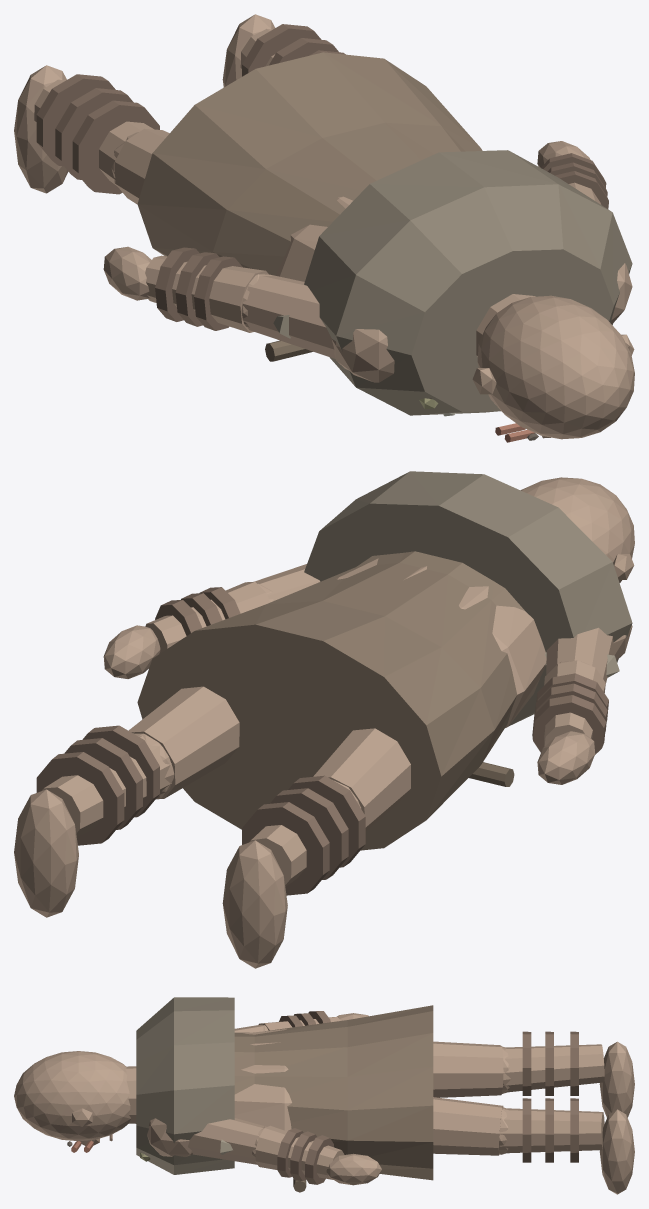
File: woman_slender__warrior.glb
3 views of the same model, one above another, from view 1: azimuth 30°, elevation 25°; view 2: azimuth 150°, elevation 25°; view 3: azimuth 270°, elevation 25° (orthographic). The views are drawn at different scales.
Visible parts, largest first — view 1: part_043, part_039, part_010, part_018, part_003, part_027, part_020, part_025, part_017, part_000, part_026, part_021 (+14 smaller); view 2: part_039, part_043, part_004, part_003, part_007, part_000, part_010, part_008, part_025, part_036, part_006, part_021 (+16 smaller); view 3: part_039, part_043, part_010, part_000, part_004, part_006, part_002, part_008, part_029, part_007, part_003, part_031 (+14 smaller).
Part boxes in pixels (left/top/right/bottom): part_043: left=304, top=150, right=632, bottom=415; part_039: left=137, top=52, right=482, bottom=275; part_010: left=477, top=295, right=634, bottom=439; part_018: left=242, top=274, right=335, bottom=358; part_003: left=14, top=65, right=68, bottom=193; part_027: left=72, top=100, right=159, bottom=194; part_020: left=145, top=255, right=268, bottom=332; part_025: left=36, top=74, right=115, bottom=166; part_017: left=331, top=329, right=394, bottom=382; part_000: left=114, top=128, right=169, bottom=204; part_026: left=55, top=88, right=133, bottom=179; part_021: left=103, top=246, right=151, bottom=300; part_039: left=137, top=551, right=524, bottom=850; part_043: left=304, top=471, right=632, bottom=726; part_004: left=128, top=686, right=239, bottom=799; part_003: left=222, top=840, right=287, bottom=968; part_007: left=14, top=789, right=78, bottom=917; part_000: left=313, top=728, right=410, bottom=831; part_010: left=520, top=477, right=634, bottom=582; part_008: left=336, top=558, right=546, bottom=727; part_025: left=242, top=802, right=329, bottom=895; part_036: left=36, top=752, right=124, bottom=845; part_006: left=42, top=736, right=171, bottom=836; part_021: left=537, top=731, right=595, bottom=784; part_039: left=234, top=1005, right=433, bottom=1180; part_043: left=136, top=997, right=234, bottom=1174; part_010: left=14, top=1051, right=130, bottom=1141; part_000: left=433, top=1041, right=503, bottom=1097; part_004: left=433, top=1097, right=503, bottom=1155; part_006: left=499, top=1108, right=604, bottom=1153; part_002: left=503, top=1044, right=604, bottom=1092; part_008: left=234, top=1029, right=291, bottom=1131; part_029: left=188, top=1118, right=265, bottom=1164; part_007: left=599, top=1109, right=634, bottom=1194; part_003: left=599, top=1041, right=634, bottom=1117; part_031: left=255, top=1125, right=344, bottom=1179.
Bounding box in the file's own units: 1.5 × 0.6967 × 2.56.
